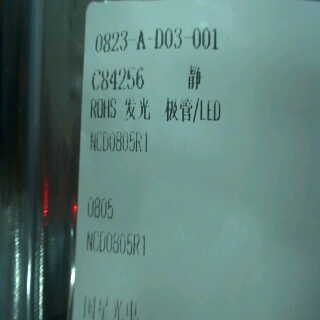LED: (122, 91, 224, 128)
